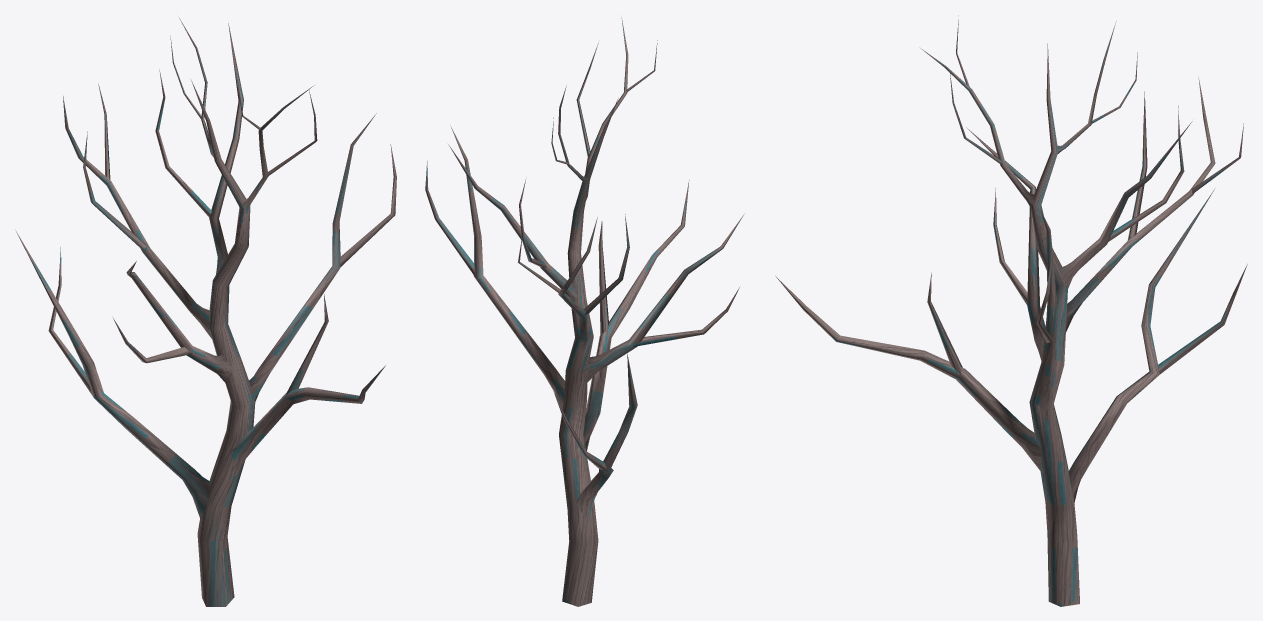
The picture shows the model from 3 angles, left to right: view 1: azimuth 30°, elevation 25°; view 2: azimuth 150°, elevation 25°; view 3: azimuth 270°, elevation 25°; orthographic projection. The views are drawn at different scales.
Parts seen in each view (by area): view 1: submesh_0; view 2: submesh_0; view 3: submesh_0.
Part boxes in pixels (left/top/right/bottom): submesh_0: left=15, top=18, right=396, bottom=606; submesh_0: left=425, top=17, right=744, bottom=606; submesh_0: left=775, top=15, right=1247, bottom=606.
Size of the model in its own units: 0.7612 by 1.35 by 1.
1 material, 1 textured.
